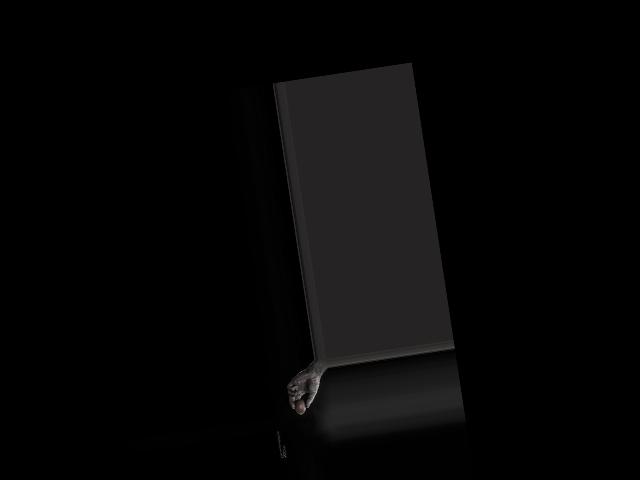egg: (293, 397, 307, 414)
